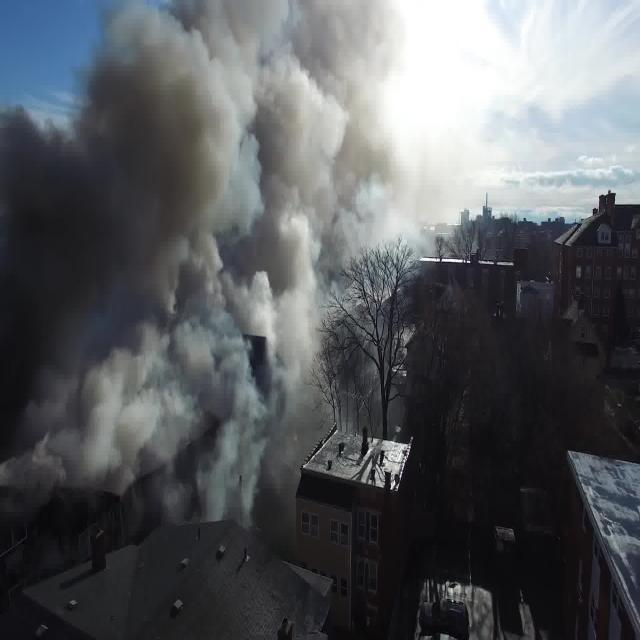Smoke: (35, 45, 298, 488), (305, 5, 385, 232)
